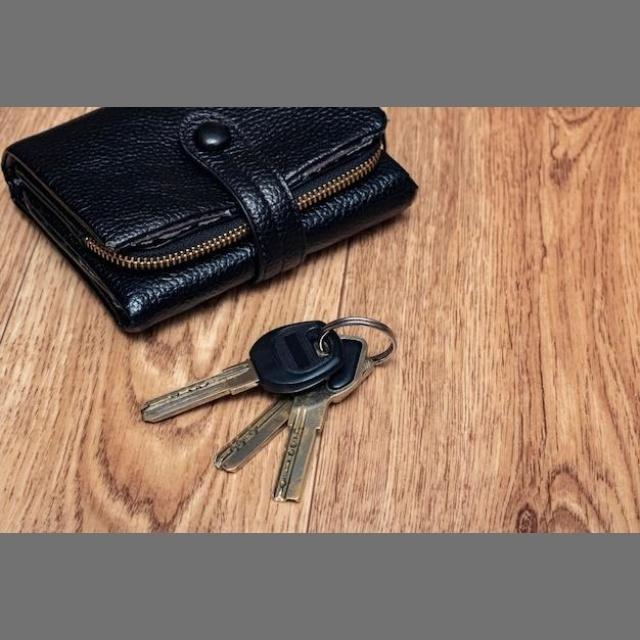Wallet: (6, 110, 454, 302)
